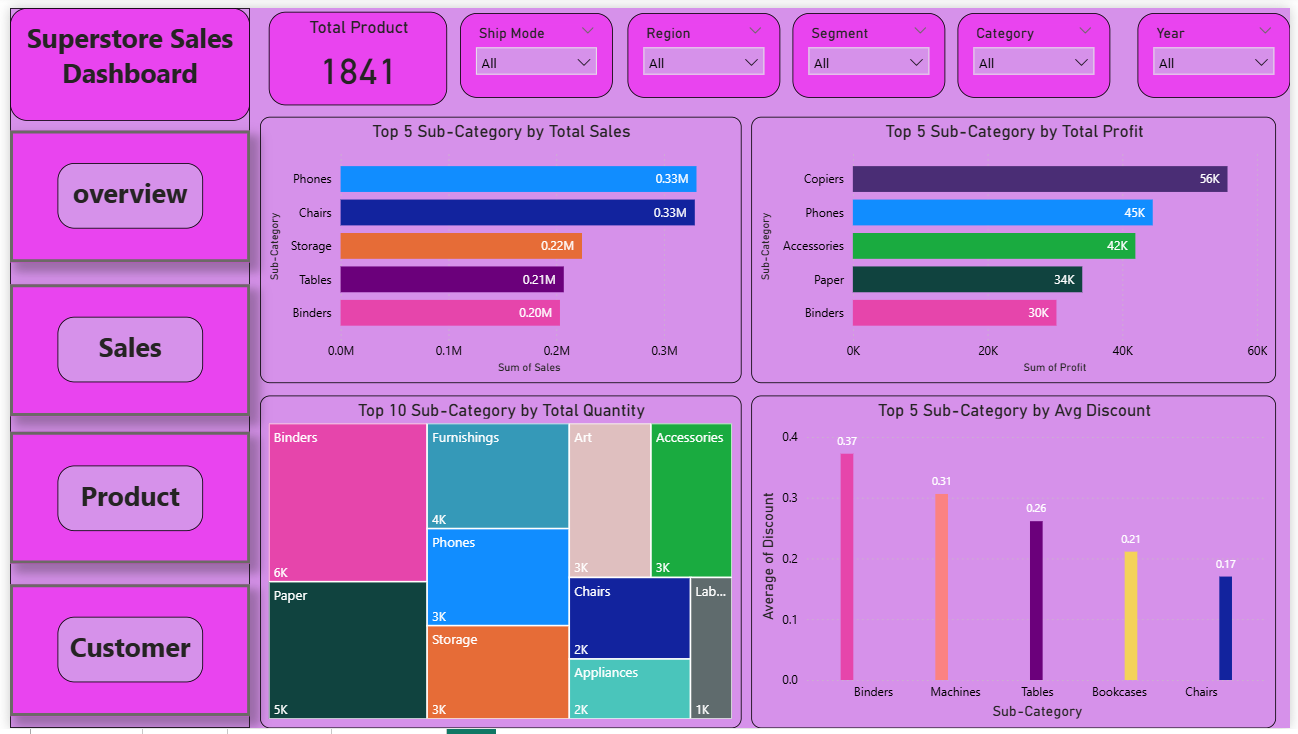

The page's visual inventory and layout, read from the dashboard file:
{"tool":"powerbi","page":{"name":"Product","canvas":[1280,720],"ordinal":2},"visuals":[{"type":"textbox","box":[0,0,240,720],"z":0},{"type":"card","title":"Total Product","fields":{"Values":["Count(Orders.Product Name)"]},"box":[259,3.8,178.8,93.8],"z":0,"group":"g1"},{"type":"textbox","box":[0,0,240.1,112.5],"z":1000},{"type":"slicer","fields":{"Values":["calender.Year"]},"box":[1127.5,5,152.5,85],"z":1000,"group":"g1"},{"type":"actionButton","box":[0,576.3,240.1,131.7],"z":2000},{"type":"actionButton","box":[0,424,240.1,131.7],"z":3000},{"type":"actionButton","box":[0,275.8,240.1,131.7],"z":4000},{"type":"slicer","fields":{"Values":["Orders.Category"]},"box":[947.5,5,152.5,85],"z":5000},{"type":"slicer","fields":{"Values":["Orders.Segment"]},"box":[782.5,5,152.5,85],"z":6000},{"type":"slicer","fields":{"Values":["Orders.Ship Mode"]},"box":[450,5,152.5,85],"z":7000},{"type":"slicer","fields":{"Values":["Orders.Region"]},"box":[617.5,5,152.5,85],"z":8000},{"type":"actionButton","box":[0,122.1,240.1,131.7],"z":9000},{"type":"textbox","box":[48,155.1,145.5,65.9],"z":10000},{"type":"textbox","box":[48,308.7,145.5,65.9],"z":11000},{"type":"textbox","box":[48,456.9,145.5,65.9],"z":12000},{"type":"textbox","box":[48,609.3,145.5,65.9],"z":13000},{"type":"group","id":"g1","title":"Group 1","box":[259,3.8,1021,93.8],"z":14000},{"type":"barChart","title":"Top 5 Sub-Category by Total Sales","fields":{"Y":["Sum(Orders.Sales)"],"Category":["Orders.Sub-Category"],"Series":["Orders.Sub-Category"]},"box":[250,108.8,481.2,266.2],"z":15000},{"type":"barChart","title":"Top 5 Sub-Category by Total Profit","fields":{"Y":["Sum(Orders.Profit)"],"Category":["Orders.Sub-Category"],"Series":["Orders.Sub-Category"]},"box":[741.2,108.8,525,266.2],"z":16000},{"type":"treemap","title":"Top 10 Sub-Category by Total Quantity","fields":{"Group":["Orders.Sub-Category"],"Values":["Sum(Orders.Quantity)"]},"box":[250,387.5,481.2,332.5],"z":17000},{"type":"clusteredColumnChart","title":"Top 5 Sub-Category by Avg Discount","fields":{"Y":["Avg(Orders.Discount)"],"Category":["Orders.Sub-Category"],"Series":["Orders.Sub-Category"]},"box":[741.2,387.5,525,332.5],"z":18000}]}

Visuals, with their boxes in screenshot pixels (x1, y1, x2, y2), scaled from the page's 1280x720 canvas onto the 1298x734 screenshot:
textbox: (0,0,243,733)
"Total Product" card: (263,4,444,99)
textbox: (0,0,243,115)
slicer - calender.Year: (1143,5,1297,92)
actionButton: (0,588,243,722)
actionButton: (0,432,243,567)
actionButton: (0,281,243,415)
slicer - Orders.Category: (961,5,1115,92)
slicer - Orders.Segment: (794,5,948,92)
slicer - Orders.Ship Mode: (456,5,611,92)
slicer - Orders.Region: (626,5,781,92)
actionButton: (0,124,243,259)
textbox: (49,158,196,225)
textbox: (49,315,196,382)
textbox: (49,466,196,533)
textbox: (49,621,196,688)
"Group 1" group: (263,4,1297,99)
"Top 5 Sub-Category by Total Sales" barChart: (254,111,741,382)
"Top 5 Sub-Category by Total Profit" barChart: (752,111,1284,382)
"Top 10 Sub-Category by Total Quantity" treemap: (254,395,741,733)
"Top 5 Sub-Category by Avg Discount" clusteredColumnChart: (752,395,1284,733)
